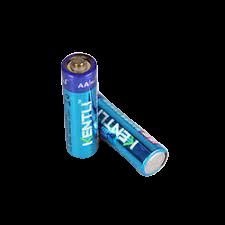Battery: (60, 52, 99, 161)
